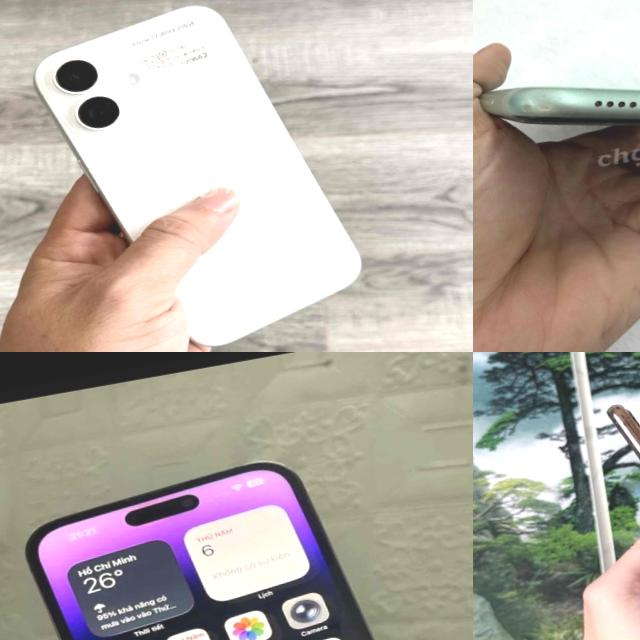gen_11: (473, 14, 640, 216)
gen_14: (15, 434, 473, 640)
gen_17: (34, 5, 360, 345)
physical_damage: (498, 82, 571, 132)
